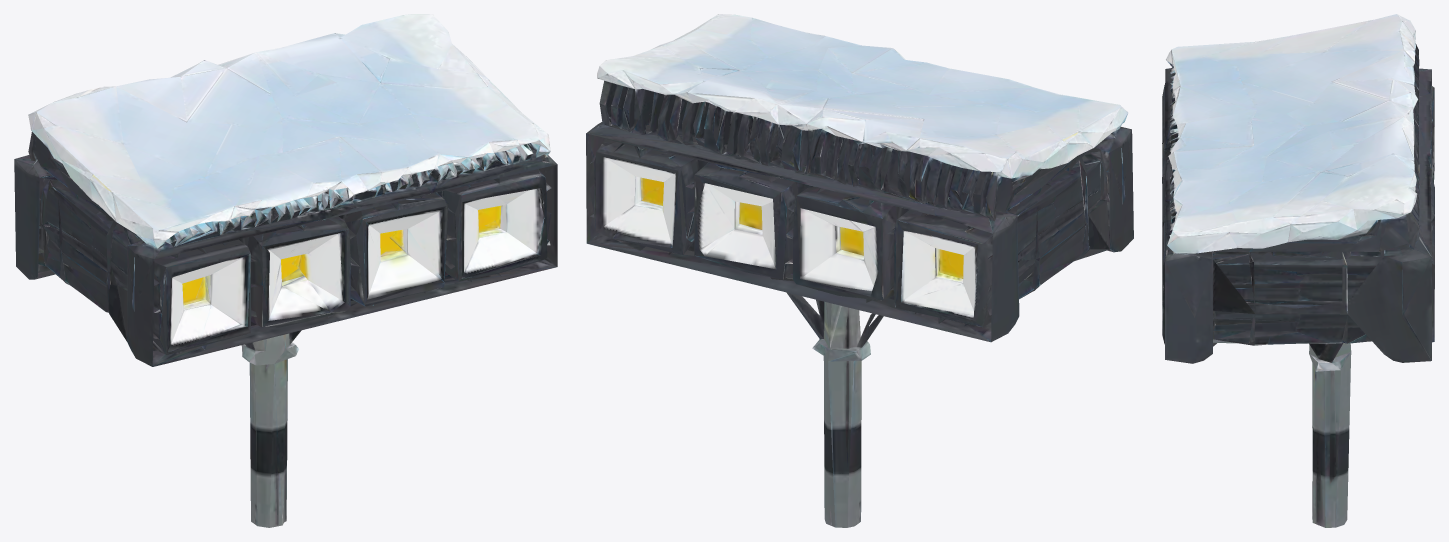
File: floodlight_head_c.glb
3 renders of one model, left to right at view 1: azimuth 30°, elevation 25°; view 2: azimuth 150°, elevation 25°; view 3: azimuth 270°, elevation 25°, orthographic. The views are drawn at different scales.
Size of the model in its own units: 1.89 by 1.89 by 1.12.
Materials: 1 (1 with a texture image).
